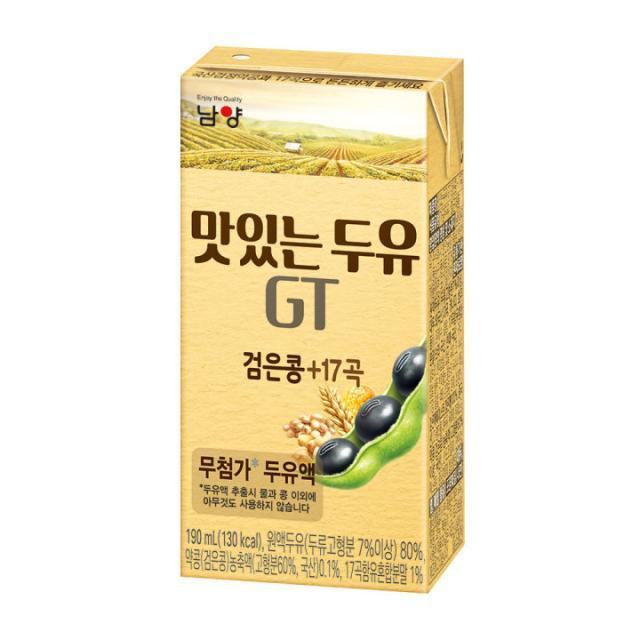Tetra: (169, 40, 473, 610)
